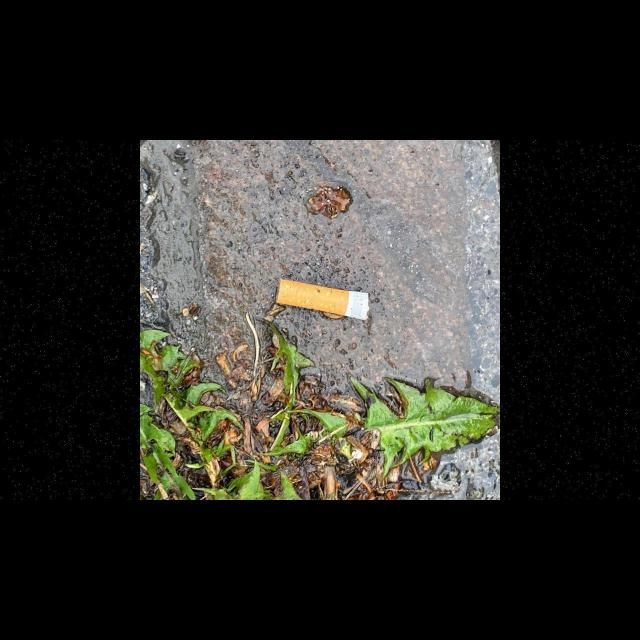cigarette: (276, 277, 370, 321)
